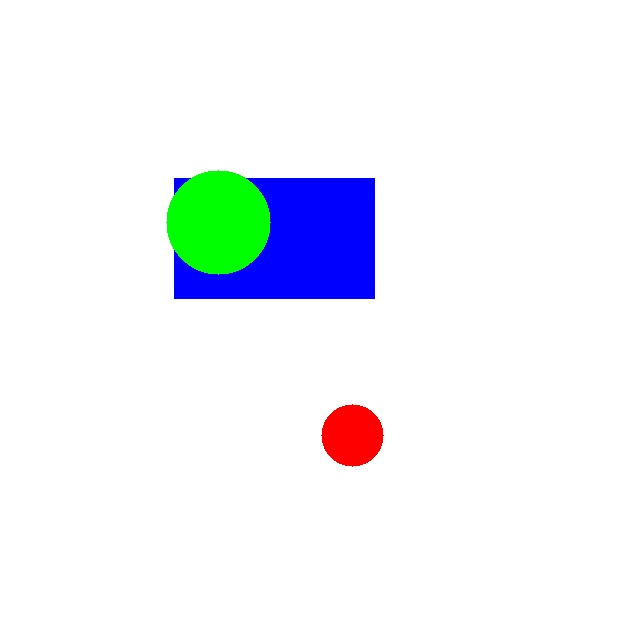cartao: (174, 178, 374, 298)
rosca_externa: (166, 170, 270, 274)
rosca_interna: (321, 404, 383, 466)
